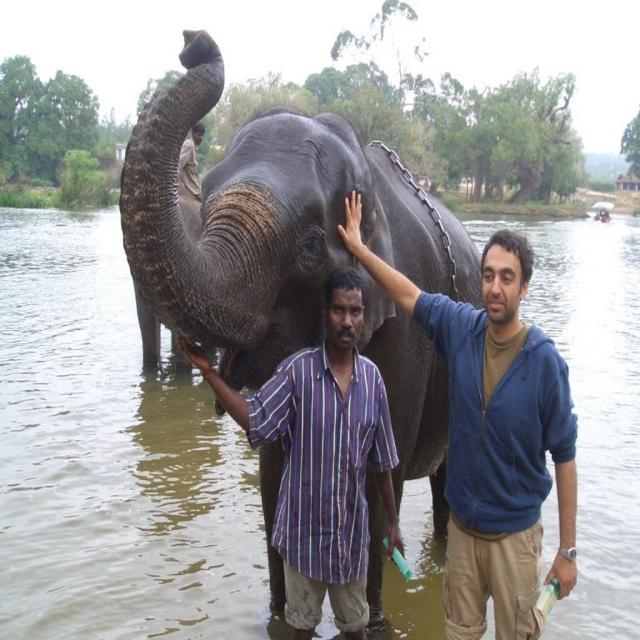elephant: (120, 29, 484, 628), (124, 175, 218, 375)
